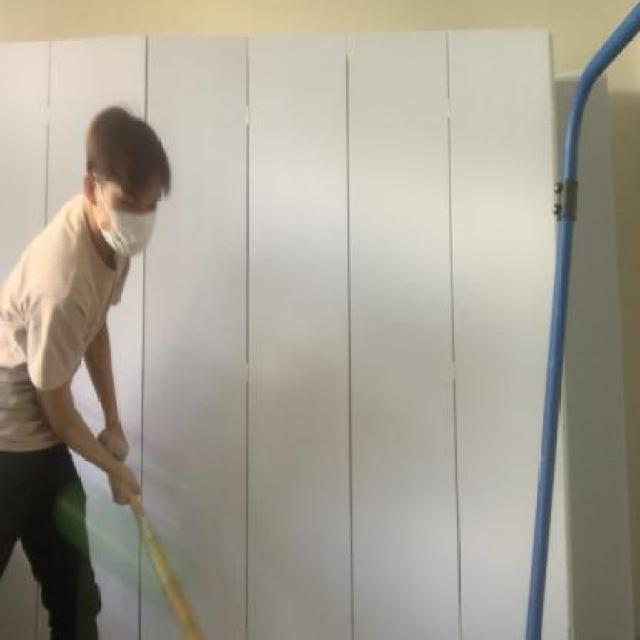baseball: (47, 467, 202, 608)
